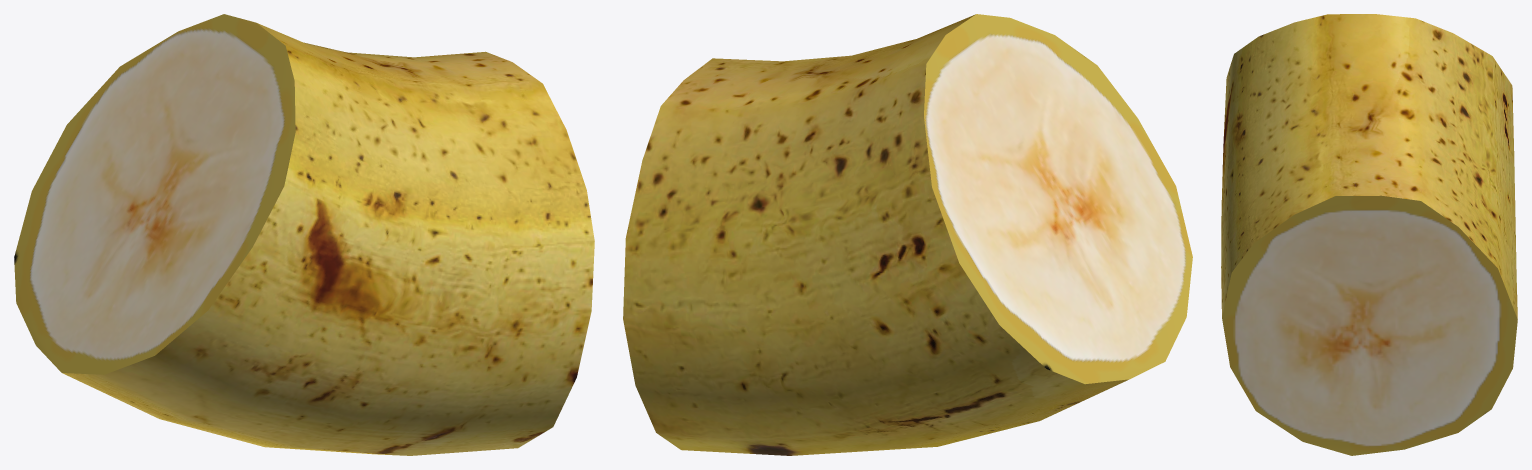
File: BananaBonus_02.fbx
3 renders of one model, left to right at view 1: azimuth 30°, elevation 25°; view 2: azimuth 150°, elevation 25°; view 3: azimuth 270°, elevation 25°, orthographic. The views are drawn at different scales.
Visible parts, largest first — view 1: BananaBonus_02; view 2: BananaBonus_02; view 3: BananaBonus_02.
Boxes of the visible parts, <box> form: BananaBonus_02: <box>14,14,594,455</box>; BananaBonus_02: <box>623,14,1192,455</box>; BananaBonus_02: <box>1221,14,1517,455</box>.
Bounding box in the file's own units: 0.4568 × 0.4308 × 0.3207.
Materials: 1 (1 with a texture image).
